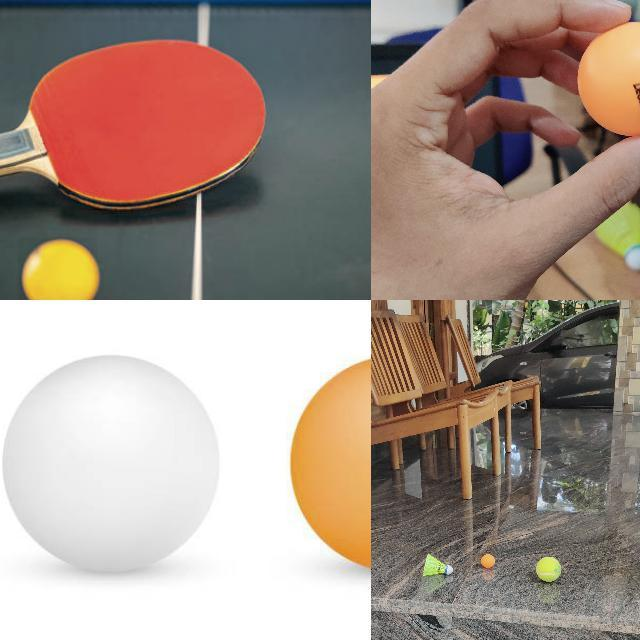ping-pong-ball: (288, 353, 370, 572), (575, 22, 639, 134), (18, 238, 98, 299), (481, 554, 493, 568)
